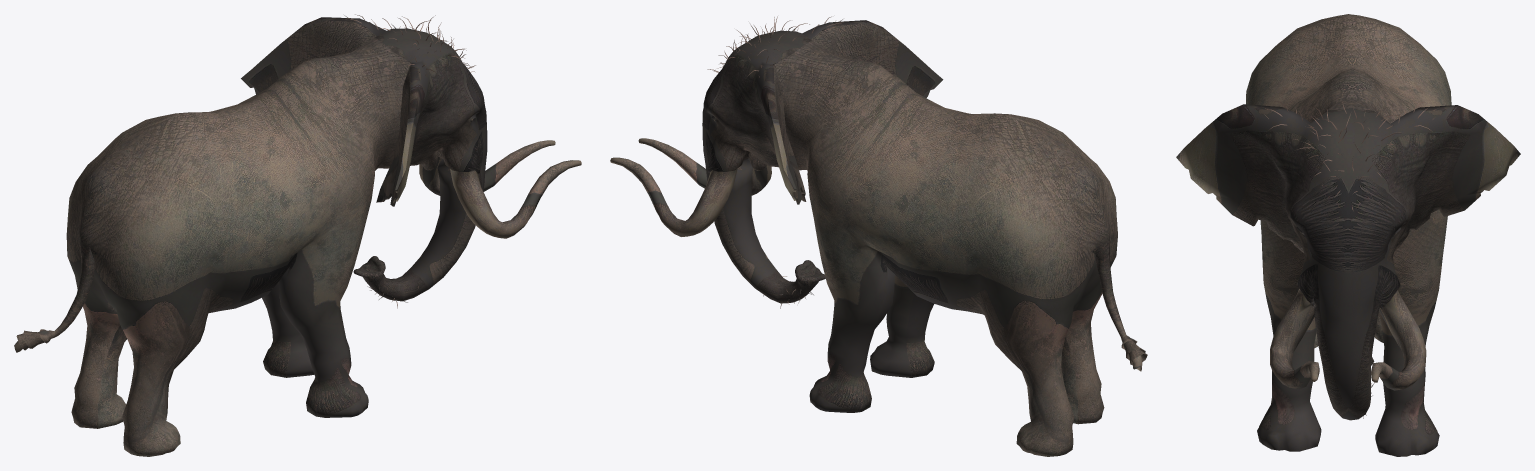
The model's file is Elephant.fbx.
3 views of the same model, side by side, from view 1: azimuth 30°, elevation 25°; view 2: azimuth 150°, elevation 25°; view 3: azimuth 270°, elevation 25° (orthographic). The views are drawn at different scales.
Visible parts, largest first — view 1: GLTF_created_0; view 2: GLTF_created_0; view 3: GLTF_created_0.
Part boxes in pixels (x1=…): GLTF_created_0: x1=14, y1=14, x2=581, y2=456; GLTF_created_0: x1=610, y1=16, x2=1147, y2=456; GLTF_created_0: x1=1176, y1=14, x2=1520, y2=456.
Size of the model in its own units: 148 by 88.31 by 72.19.
Materials: 1 (1 with a texture image).
